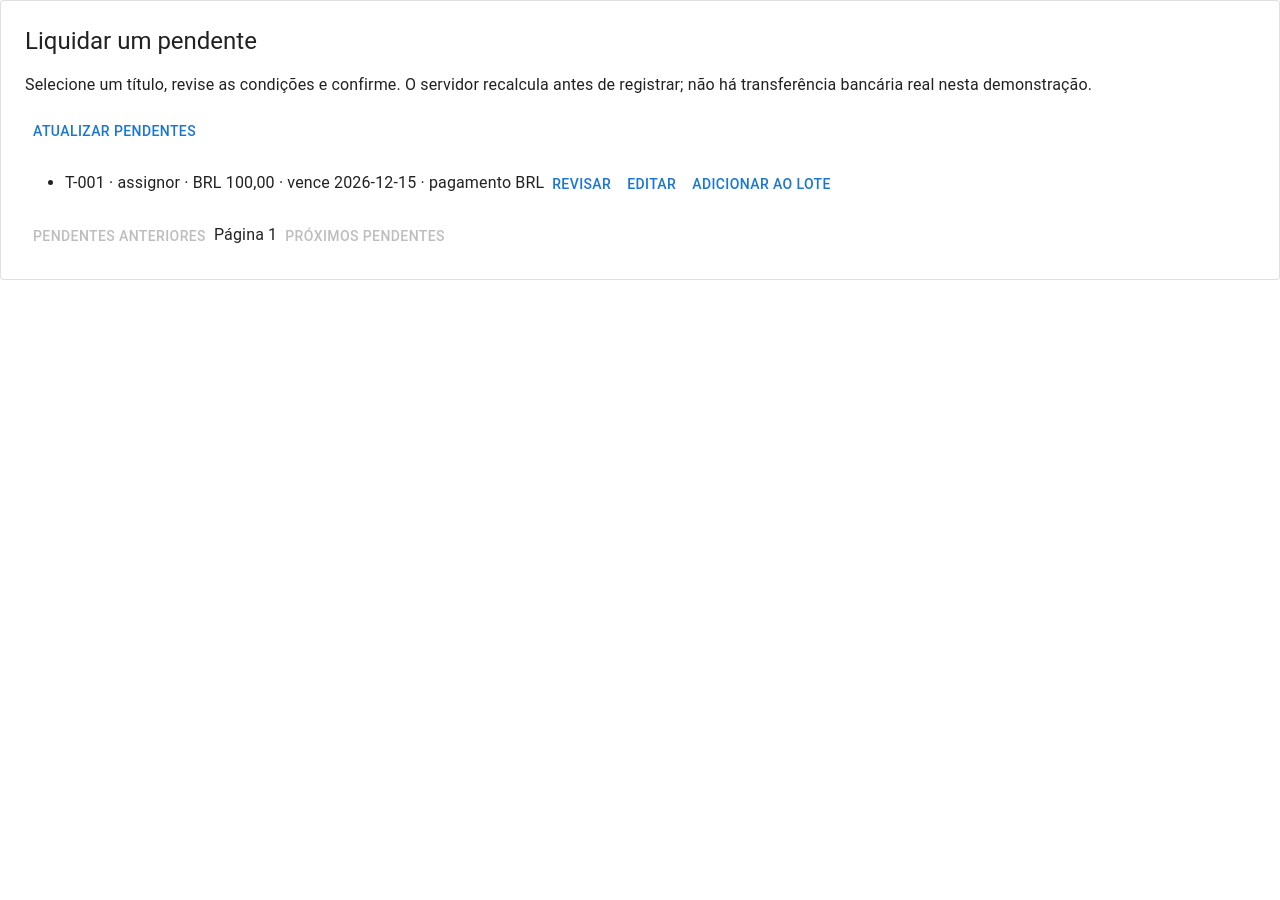
Test: preserves uncertain response HTTP 500 for manual replay
Click the button with aria-label "Revisar T-001".
click(582, 184)  # box [544,166,619,202]
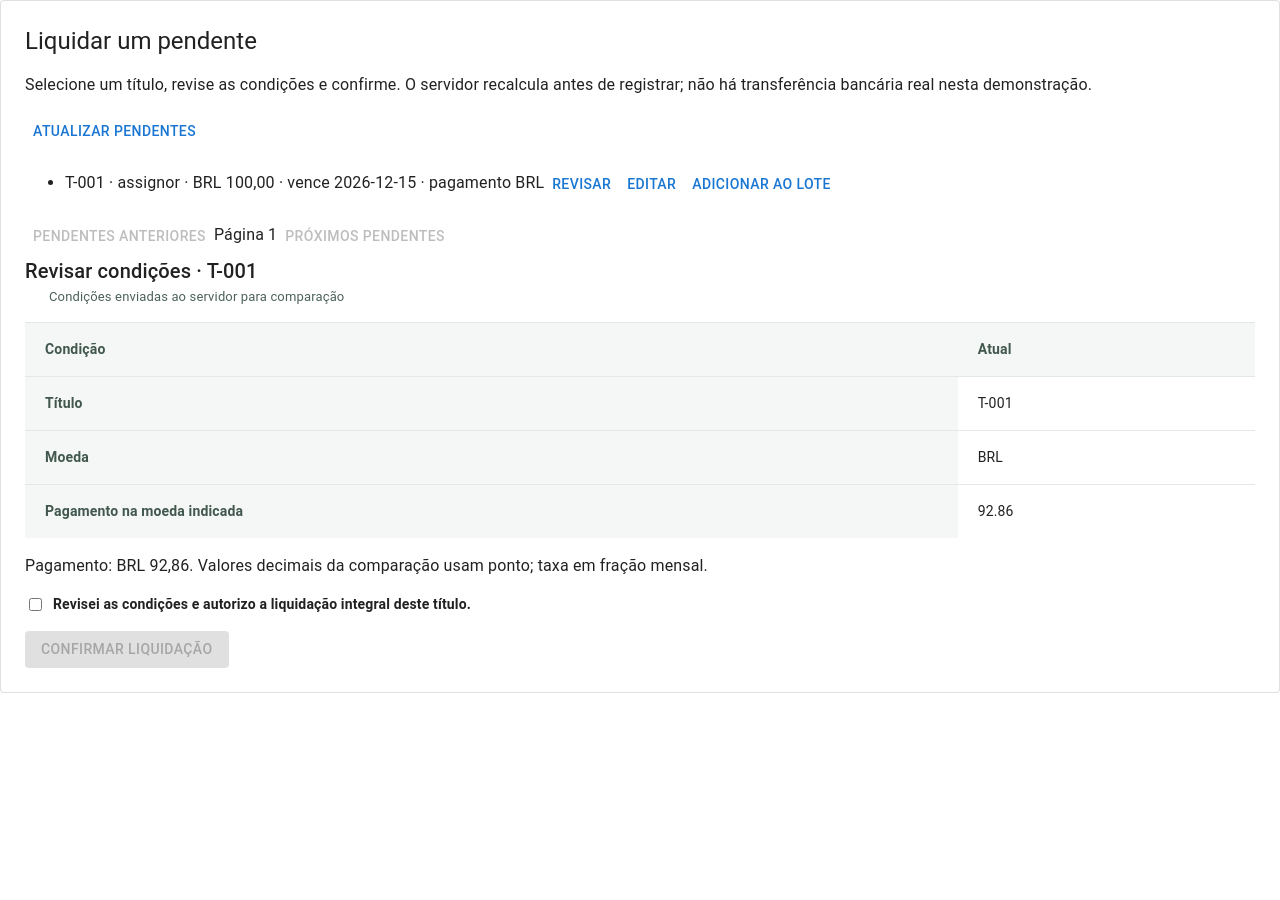
Expected: the checkbox is shown
Click the checkbox.
click(36, 604)  # box [29,598,42,611]
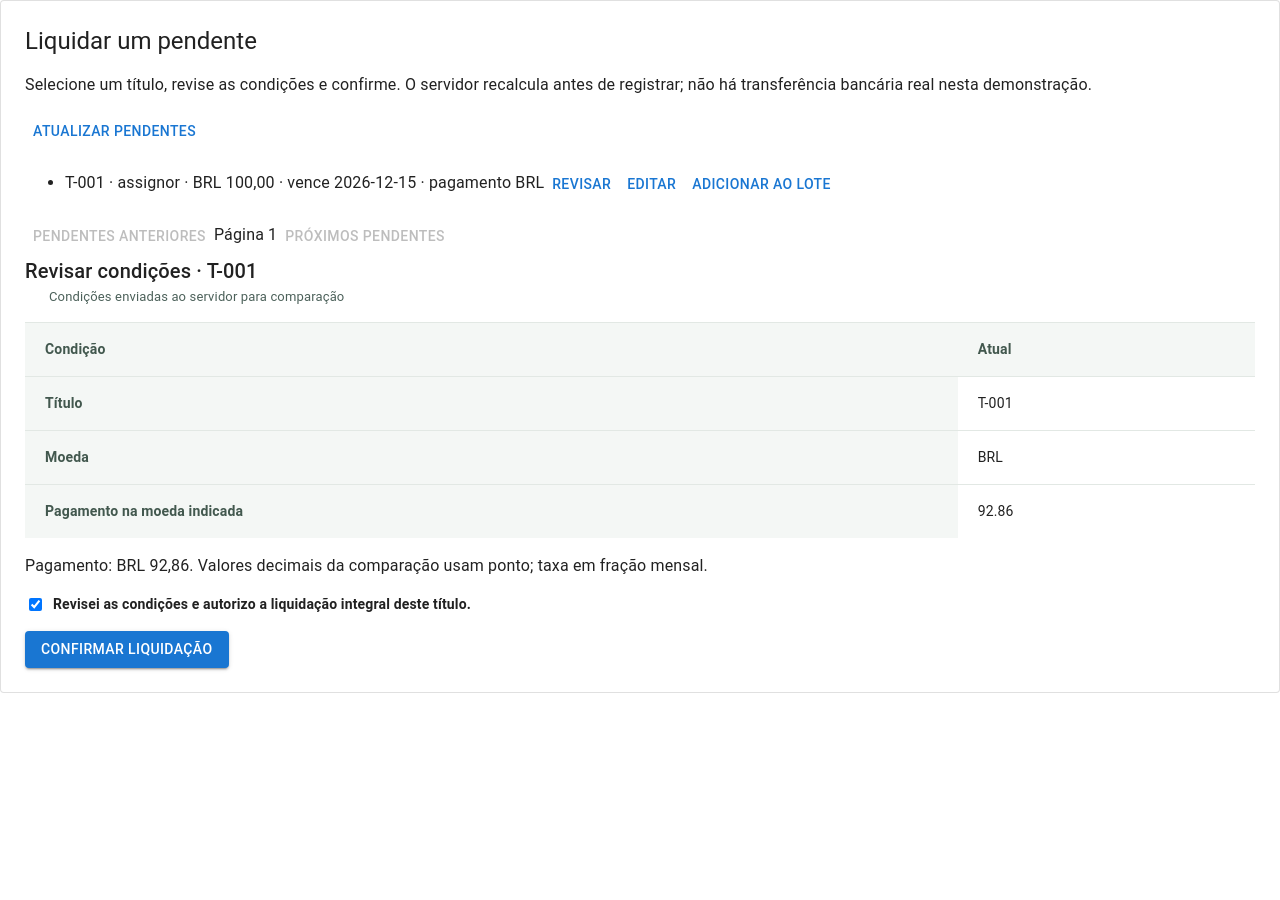
Click the button "Confirmar liquidação".
click(127, 649)  # box [25,631,228,668]
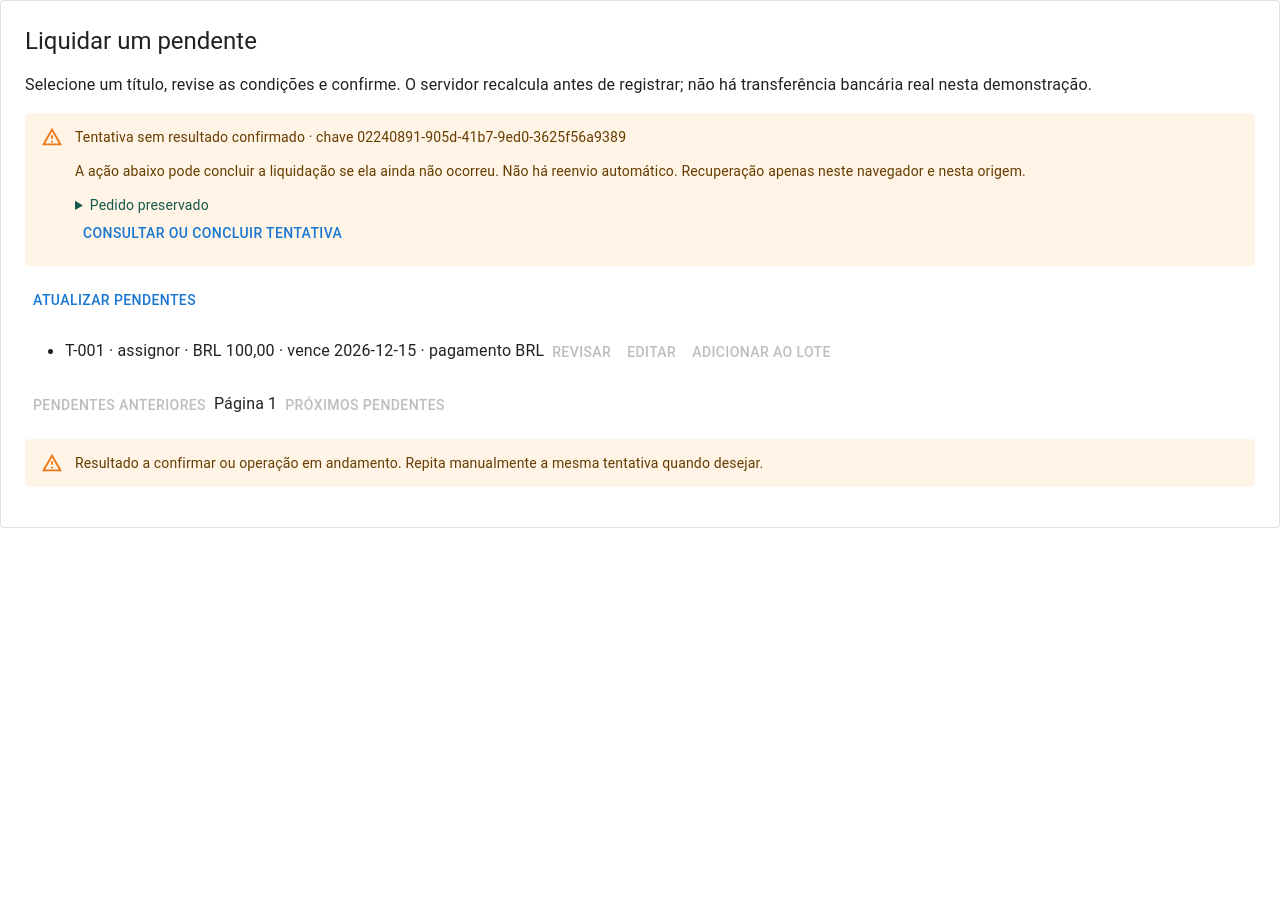
Expected: the text "Resultado a confirmar ou operação" is shown, [75,455,763,471]
Expected: the button "Consultar ou concluir tentativa" is shown, [75,215,350,252]
